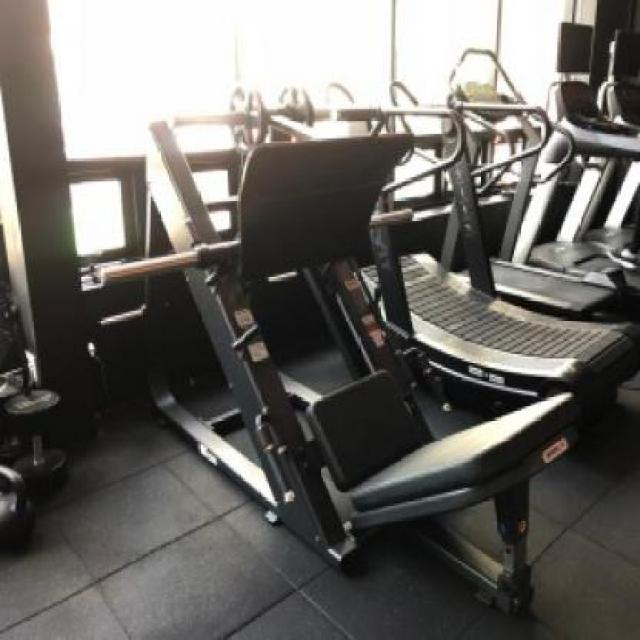leg press: (81, 92, 584, 628)
